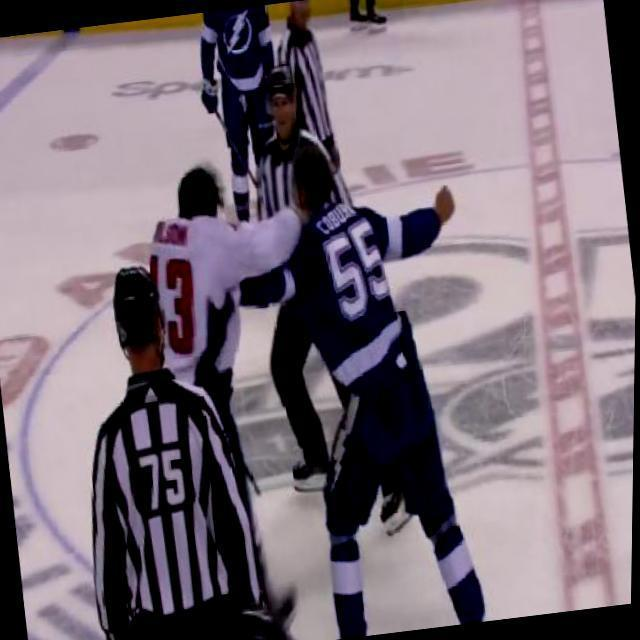fight: (132, 135, 506, 640)
